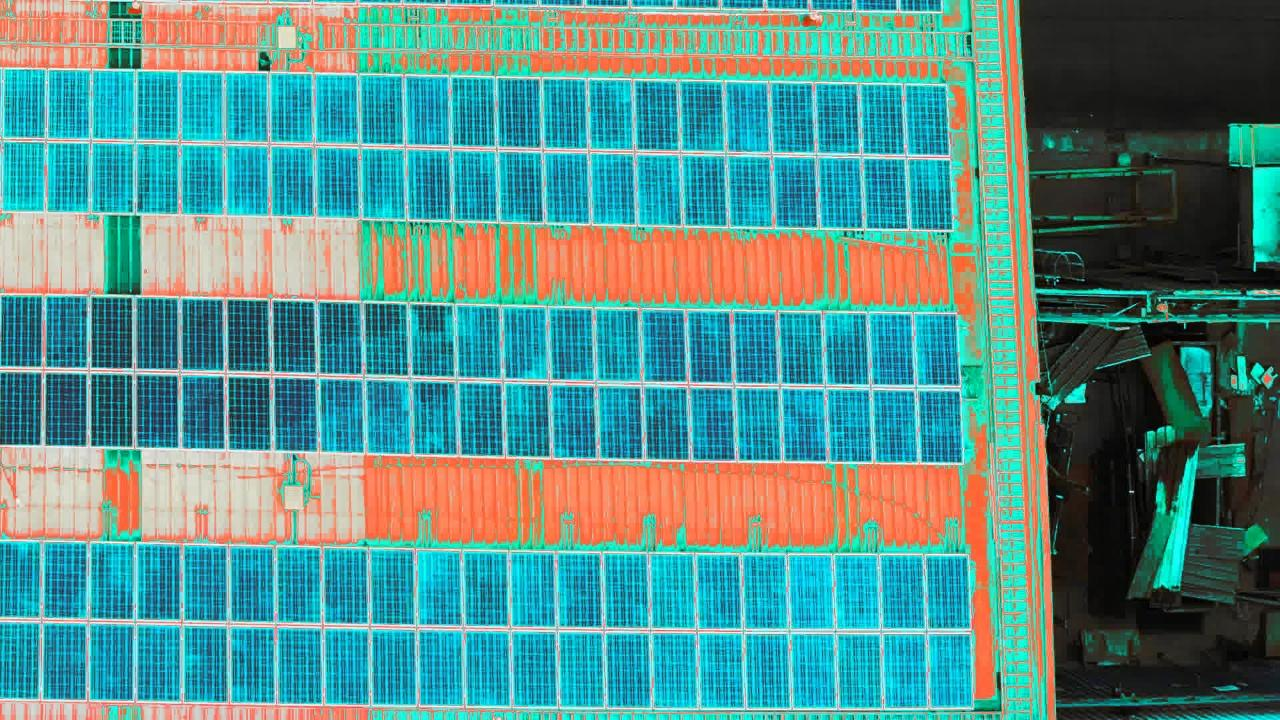clean: (2, 295, 360, 462)
dirty: (2, 540, 980, 715), (5, 68, 950, 231), (359, 302, 964, 470)
